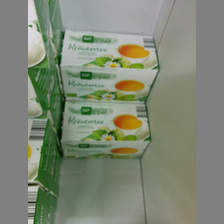tea: (60, 30, 160, 101), (58, 102, 152, 160)
